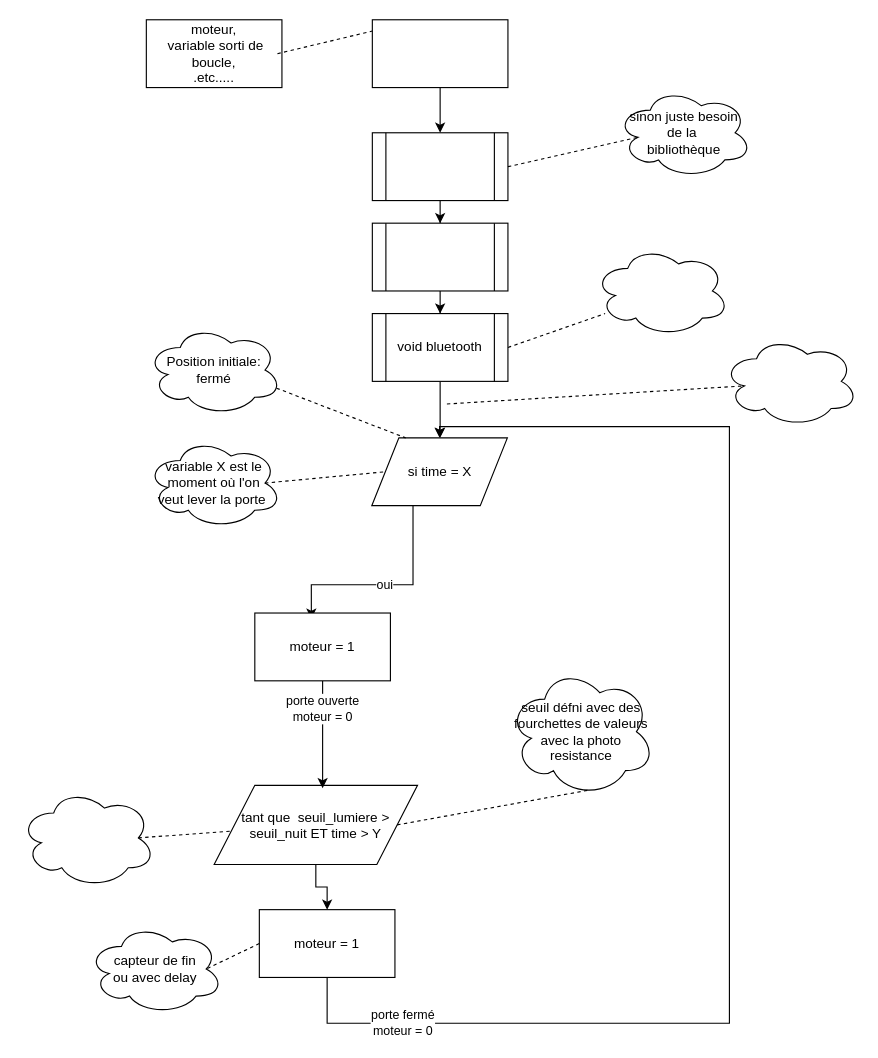
Image size: 878x1058. Some labels were removed from this diagram. The centre of each missing label's shape, as x and y in pixels:
"boucle principale" belongs at (790,381).
"Initialisation des varibles + setup" belongs at (439,53).
"plus tard dans le projet" belongs at (661,290).
"variable Y est le moment où l'on veut fermer la porte" belongs at (87,837).
"void horloge" belongs at (439,166).
"void photoresistance" belongs at (439,256).
